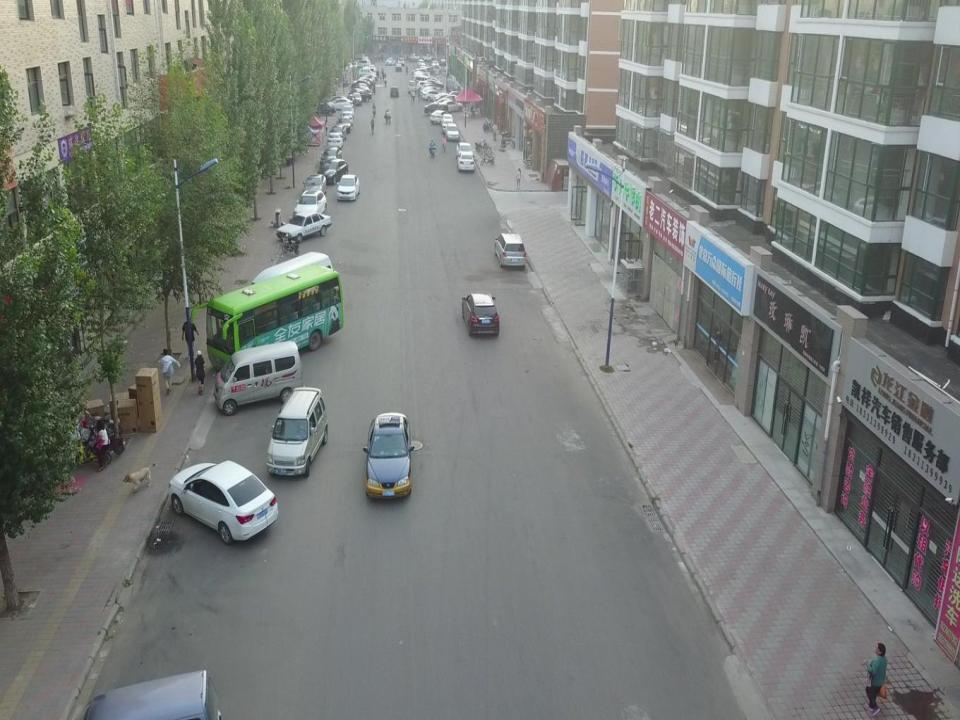bus: (189, 262, 344, 374)
car: (168, 459, 280, 545), (363, 411, 413, 499), (276, 211, 332, 245), (462, 292, 500, 338), (494, 232, 526, 270), (294, 189, 328, 223), (319, 158, 349, 185), (301, 173, 327, 199), (336, 174, 360, 202), (320, 146, 342, 166), (309, 102, 337, 115), (326, 97, 353, 110), (457, 152, 474, 172), (424, 102, 449, 115), (456, 142, 474, 160), (430, 109, 450, 125), (327, 132, 343, 150), (329, 124, 347, 140), (444, 123, 460, 141), (336, 115, 352, 132), (441, 118, 455, 133), (441, 113, 455, 128), (340, 111, 352, 124), (340, 105, 353, 117)
van: (70, 668, 222, 720), (212, 341, 303, 416), (244, 250, 334, 318), (266, 385, 329, 479), (438, 102, 448, 119)
